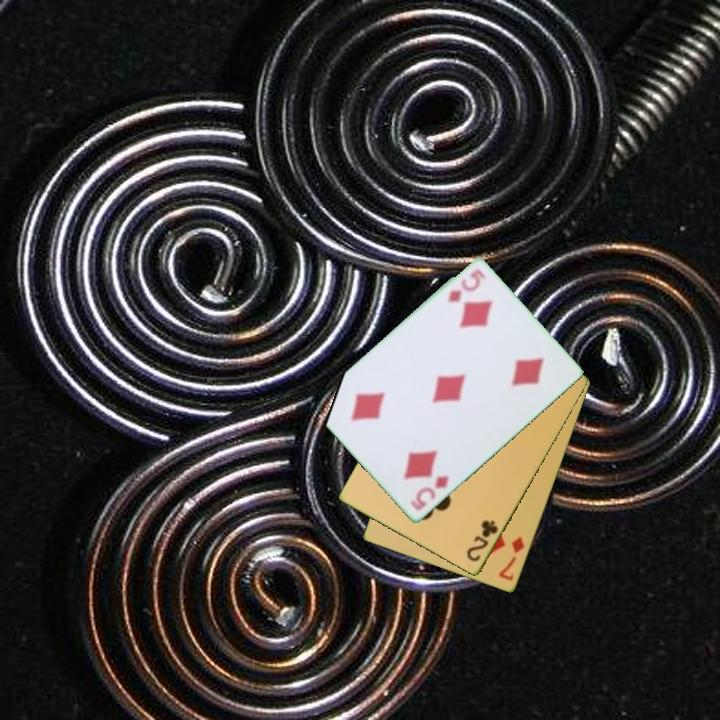2c: (463, 517, 501, 565)
5d: (406, 473, 452, 514), (444, 266, 488, 306)
7d: (495, 534, 528, 584)
